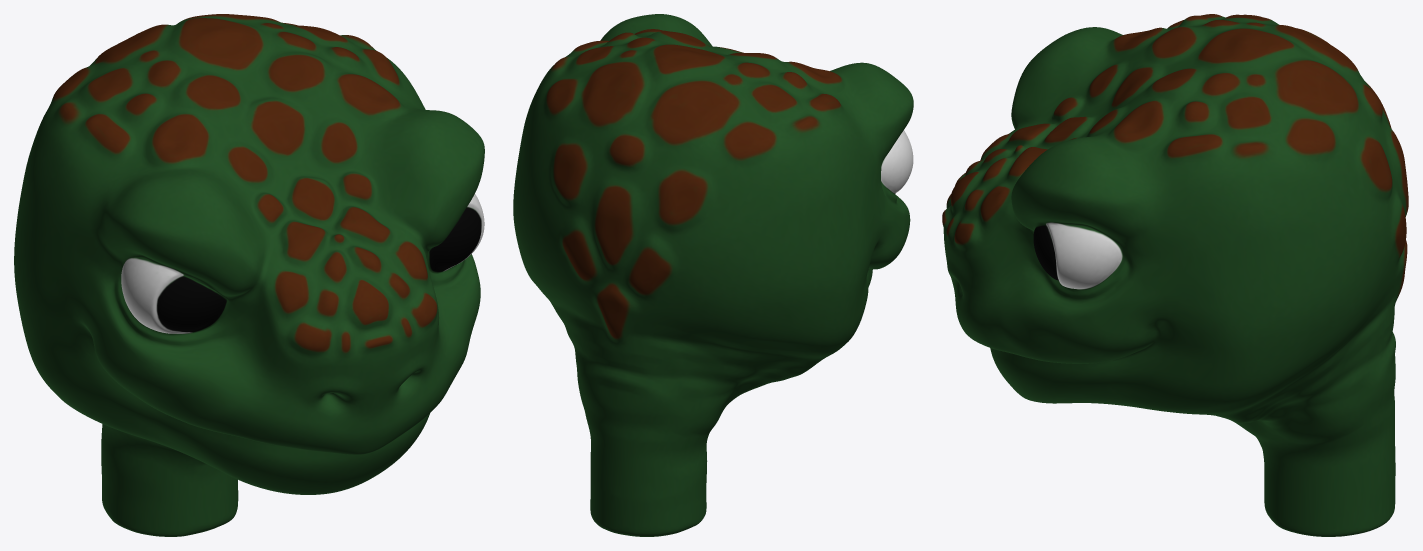
File: Tete_Tortue.glb
3 views of the same model, side by side, from view 1: azimuth 30°, elevation 25°; view 2: azimuth 150°, elevation 25°; view 3: azimuth 270°, elevation 25° (orthographic). The views are drawn at different scales.
Visible parts, largest first — view 1: Tete_Tortue; view 2: Tete_Tortue; view 3: Tete_Tortue.
Part boxes in pixels (<box>): Tete_Tortue: <box>14,14,484,536</box>; Tete_Tortue: <box>513,14,913,536</box>; Tete_Tortue: <box>942,14,1408,536</box>.
Bounding box in the file's own units: 3.77 × 4.74 × 4.23.
